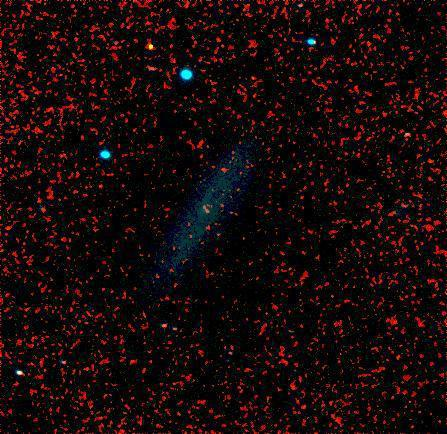star: (135, 31, 165, 61)
